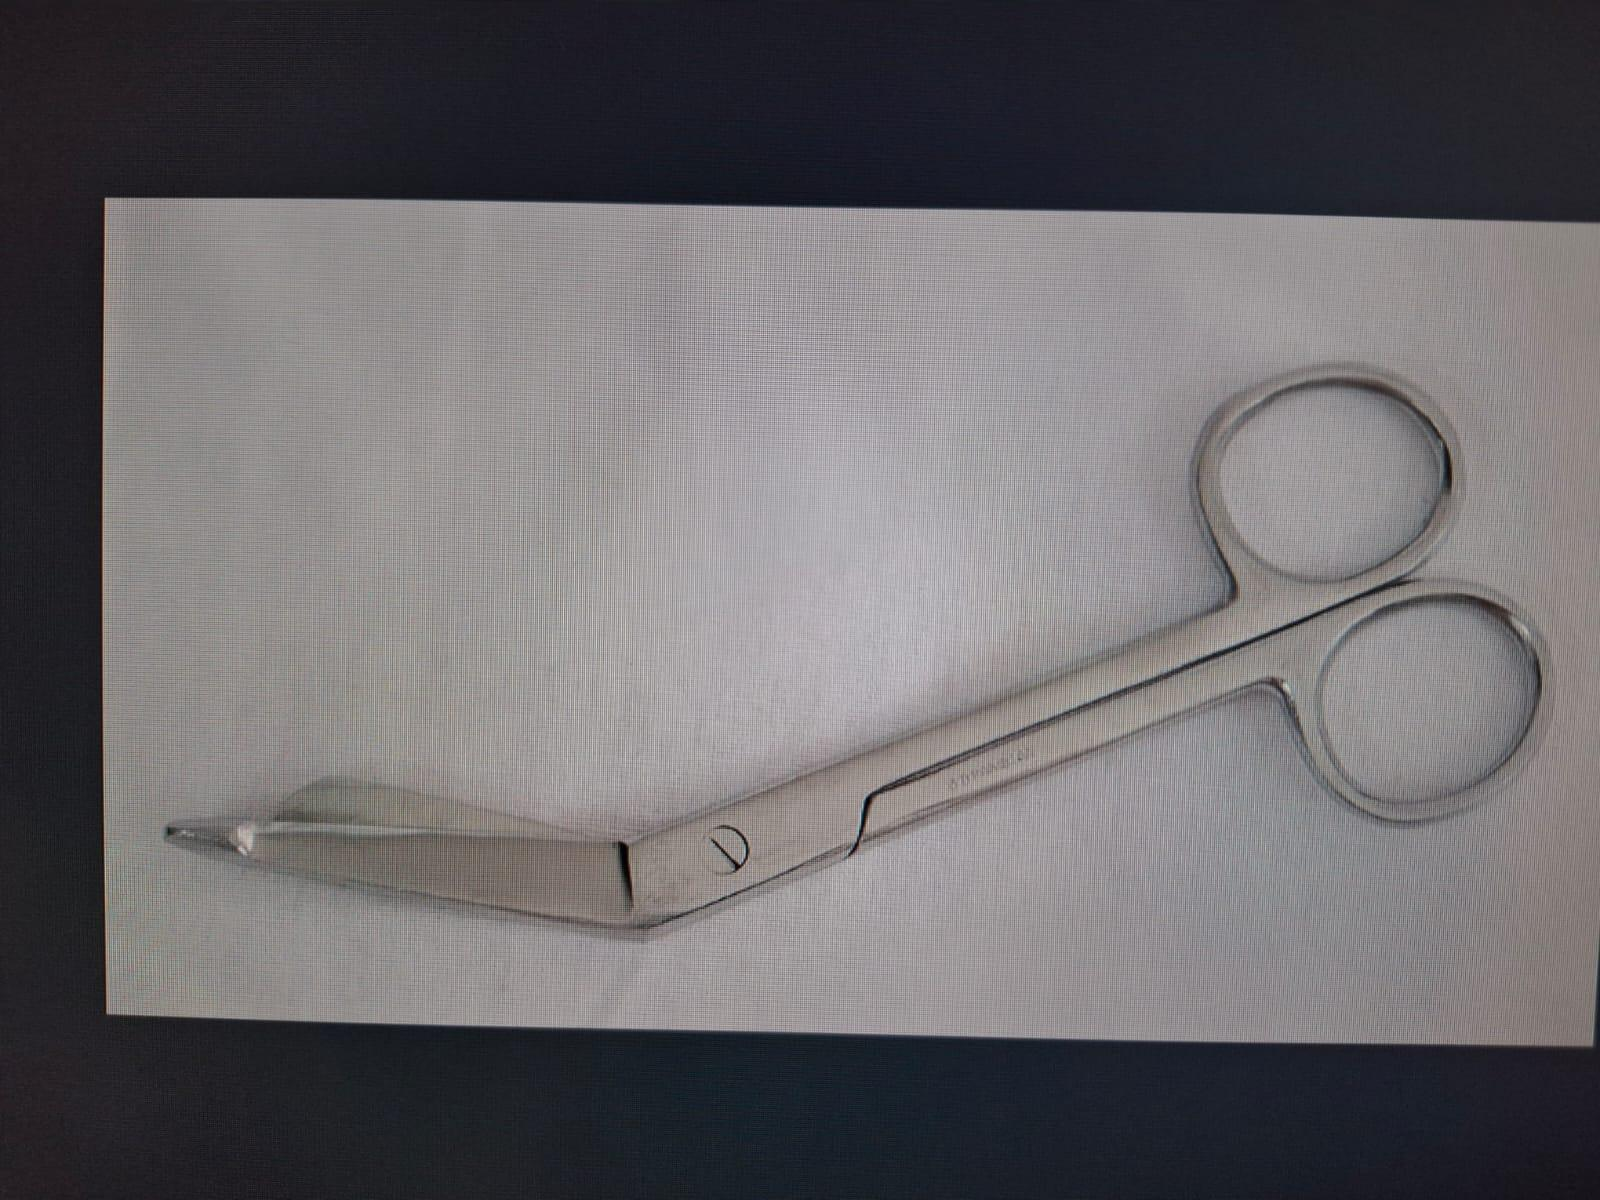Bandage Sciccors: (146, 338, 1570, 952)
